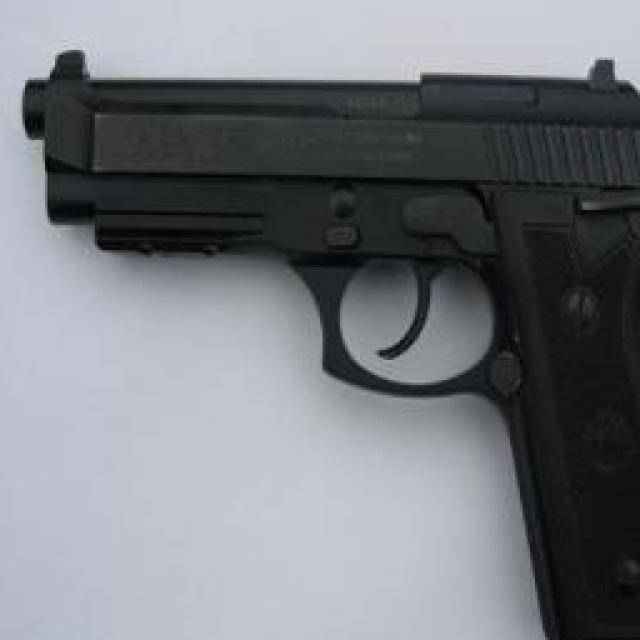pistol: (20, 50, 640, 640)
